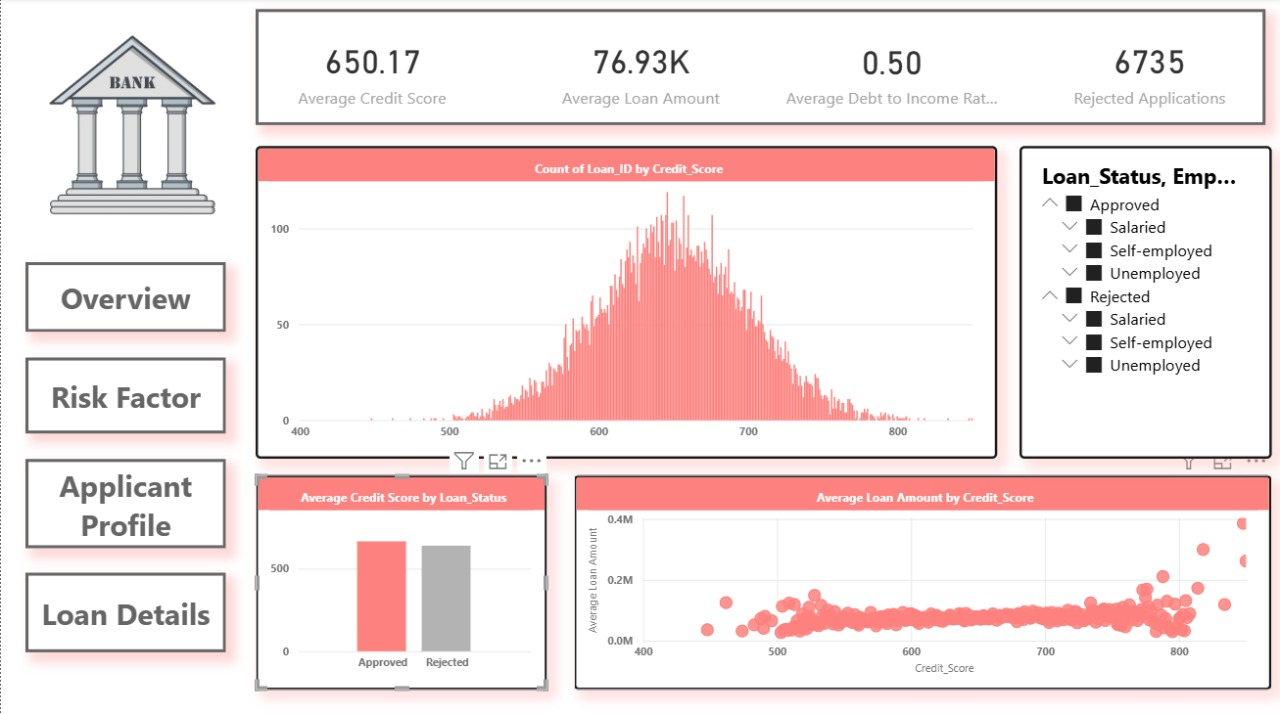

What the dashboard file says about the page in this screenshot:
{"tool":"powerbi","page":{"name":"Page 2","canvas":[1280,720],"ordinal":1},"visuals":[{"type":"image","box":[8.6,0,245.8,253.1],"z":0},{"type":"actionButton","box":[24.1,264.2,200.3,70],"z":1000},{"type":"actionButton","box":[24.1,359.5,200.3,76],"z":2000},{"type":"actionButton","box":[24.1,460.9,200.3,89.3],"z":3000},{"type":"actionButton","box":[24.1,574.3,200.3,79.6],"z":4000},{"type":"card","fields":{"Values":["clean_data.Average Credit Score"]},"box":[267.8,25.7,206.7,94.2],"z":5000},{"type":"card","fields":{"Values":["clean_data.Average Loan Amount"]},"box":[530.7,25.7,217.7,94.2],"z":6000},{"type":"card","fields":{"Values":["clean_data.Rejected Applications"]},"box":[1041.9,25.7,211.6,94.2],"z":7000},{"type":"card","fields":{"Values":["clean_data.Average Debt to Income Ratio"]},"box":[778.9,26.9,222.6,92.9],"z":8000},{"type":"actionButton","box":[254.3,11,1008.8,116.2],"z":9000},{"type":"clusteredColumnChart","fields":{"Category":["clean_data.Credit_Score"],"Y":["Count(clean_data.Loan_ID)"]},"box":[254.3,148,741,313],"z":10000},{"type":"clusteredColumnChart","fields":{"Category":["clean_data.Loan_Status"],"Y":["clean_data.Average Credit Score"]},"box":[254.3,476.9,291,215.2],"z":11000},{"type":"scatterChart","fields":{"Y":["clean_data.Average Loan Amount"],"X":["clean_data.Credit_Score"]},"box":[572.3,476.9,697,215.2],"z":12000},{"type":"slicer","fields":{"Values":["clean_data.Loan_Status","clean_data.Employment_Type","clean_data.Credit_Score","clean_data.Debt_to_Income_Ratio","clean_data.Loan_Term_Range"]},"box":[1017.4,148,251.9,313],"z":13000}]}

Visuals, with their boxes in screenshot pixels (x1, y1, x2, y2), scaled from the page's 1280x720 canvas onto the 1280x714 screenshot:
image: locate(9, 0, 254, 251)
actionButton: locate(24, 262, 224, 331)
actionButton: locate(24, 357, 224, 432)
actionButton: locate(24, 457, 224, 546)
actionButton: locate(24, 570, 224, 648)
card - clean_data.Average Credit Score: locate(268, 25, 474, 119)
card - clean_data.Average Loan Amount: locate(531, 25, 748, 119)
card - clean_data.Rejected Applications: locate(1042, 25, 1254, 119)
card - clean_data.Average Debt to Income Ratio: locate(779, 27, 1002, 119)
actionButton: locate(254, 11, 1263, 126)
clusteredColumnChart - clean_data.Credit_Score x Count(clean_data.Loan_ID): locate(254, 147, 995, 457)
clusteredColumnChart - clean_data.Loan_Status x clean_data.Average Credit Score: locate(254, 473, 545, 686)
scatterChart - clean_data.Average Loan Amount x clean_data.Credit_Score: locate(572, 473, 1269, 686)
slicer - clean_data.Loan_Status x clean_data.Employment_Type: locate(1017, 147, 1269, 457)
